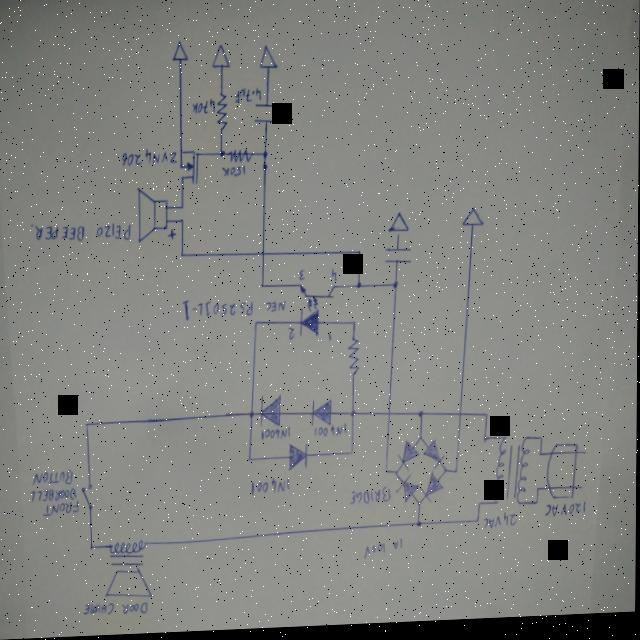capacitor: (253, 104, 283, 128), (385, 250, 413, 270)
crossover: (458, 414, 464, 424), (387, 414, 394, 422), (261, 252, 267, 261)
diode: (421, 475, 445, 510), (260, 397, 282, 431), (397, 478, 421, 509), (398, 443, 420, 476), (424, 443, 446, 475), (311, 401, 334, 430), (289, 445, 309, 475)
ground: (462, 210, 486, 233), (211, 45, 231, 72), (260, 45, 279, 73), (389, 215, 410, 237), (172, 42, 190, 65)
junction: (261, 153, 270, 163), (178, 252, 186, 261), (219, 153, 227, 162), (351, 411, 357, 422), (484, 415, 490, 426), (392, 285, 400, 293), (249, 413, 257, 421), (419, 413, 425, 423), (444, 469, 450, 479), (350, 452, 356, 461), (419, 438, 425, 447), (357, 285, 363, 293), (248, 458, 254, 466), (385, 471, 391, 479), (483, 440, 489, 448), (539, 440, 545, 448), (417, 524, 423, 532), (90, 544, 96, 552), (85, 422, 91, 430), (454, 472, 460, 480), (180, 219, 186, 227), (418, 504, 424, 512), (537, 490, 542, 499), (255, 322, 261, 329), (353, 322, 358, 330), (539, 455, 544, 463), (535, 504, 540, 512), (181, 205, 186, 213), (396, 472, 401, 480), (261, 285, 267, 291), (358, 253, 363, 259), (476, 523, 481, 529), (479, 505, 483, 511)
resistor: (216, 92, 230, 135), (349, 342, 362, 380), (229, 151, 254, 166)
switch: (81, 485, 95, 513)
terminal: (579, 489, 585, 497), (583, 455, 589, 463)
text: (182, 297, 288, 324), (33, 221, 133, 246), (120, 149, 179, 169), (348, 488, 395, 511), (84, 602, 150, 618), (365, 540, 405, 564), (250, 479, 292, 500), (544, 506, 588, 525), (31, 489, 79, 503), (484, 517, 518, 536), (33, 472, 76, 487), (44, 502, 80, 517), (313, 426, 348, 441), (235, 88, 262, 107), (262, 429, 292, 443), (192, 99, 216, 116), (222, 167, 246, 180), (330, 271, 339, 285), (288, 330, 296, 344), (299, 272, 307, 285), (327, 334, 335, 346)
transformer: (493, 438, 532, 514)
transistor: (179, 151, 202, 188)
